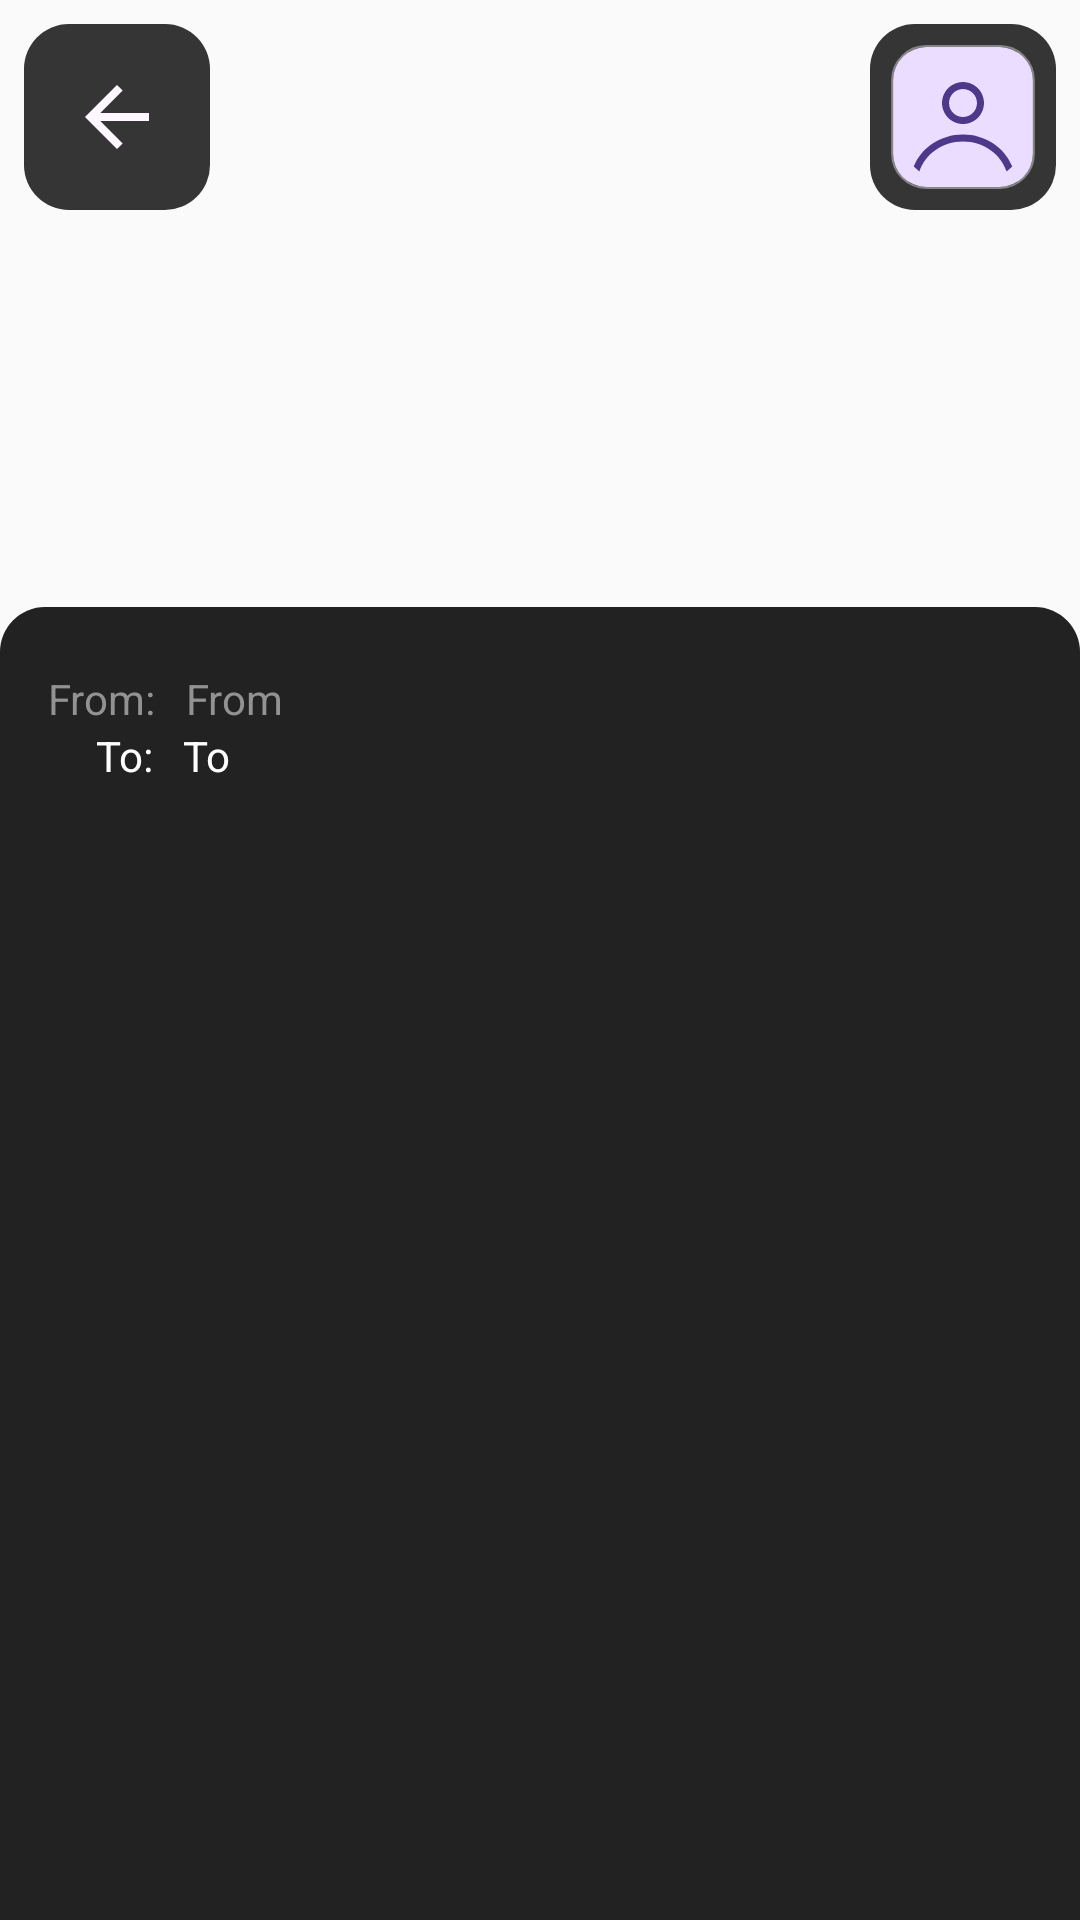

Icon bounding boxes for this 1080 × 1920 phone screenshot, format [left=x1, top=y1, right=x2, bottom=y2]:
Button back: [left=24, top=24, right=210, bottom=210]
